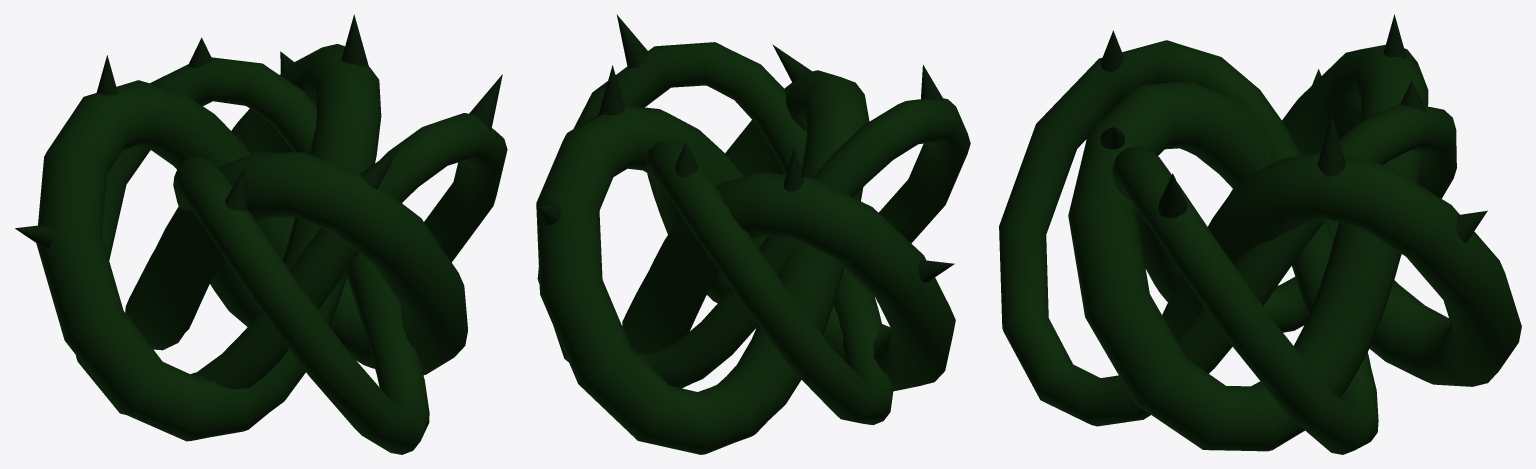
Rendered from buissonAng.FBX.
3 views of the same model, side by side, from view 1: azimuth 30°, elevation 25°; view 2: azimuth 150°, elevation 25°; view 3: azimuth 270°, elevation 25° (orthographic). The views are drawn at different scales.
Parts seen in each view (by area): view 1: Torus Knot001, Torus Knot002, Cone003, Cone008, Cone004, Cone005, Cone006; view 2: Torus Knot001, Torus Knot002, Cone008, Cone003, Cone001, Cone004, Cone002, Cone006, Cone005, Cone007; view 3: Torus Knot001, Torus Knot002, Cone003, Cone008, Cone005, Cone007, Cone001.
Boxes of the visible parts, x1,y1,x2,y2 form: Torus Knot001: (36,44,467,441); Torus Knot002: (76,57,507,454); Cone003: (341,14,368,66); Cone008: (469,74,502,131); Cone004: (360,147,399,189); Cone005: (225,168,247,211); Cone006: (15,224,54,248); Torus Knot001: (536,70,955,454); Torus Knot002: (537,42,970,424); Cone008: (616,14,647,68); Cone003: (598,65,624,115); Cone001: (783,147,803,191); Cone004: (772,44,811,82); Cone002: (675,142,698,177); Cone006: (918,260,954,282); Cone005: (921,64,943,100); Cone007: (538,202,560,226); Torus Knot001: (1068,44,1521,451); Torus Knot002: (999,40,1456,454); Cone003: (1318,114,1345,176); Cone008: (1158,173,1187,218); Cone005: (1100,30,1123,71); Cone007: (1456,210,1487,242); Cone001: (1383,14,1406,58).
Size of the model in its own units: 89.48 by 62.45 by 86.77.
